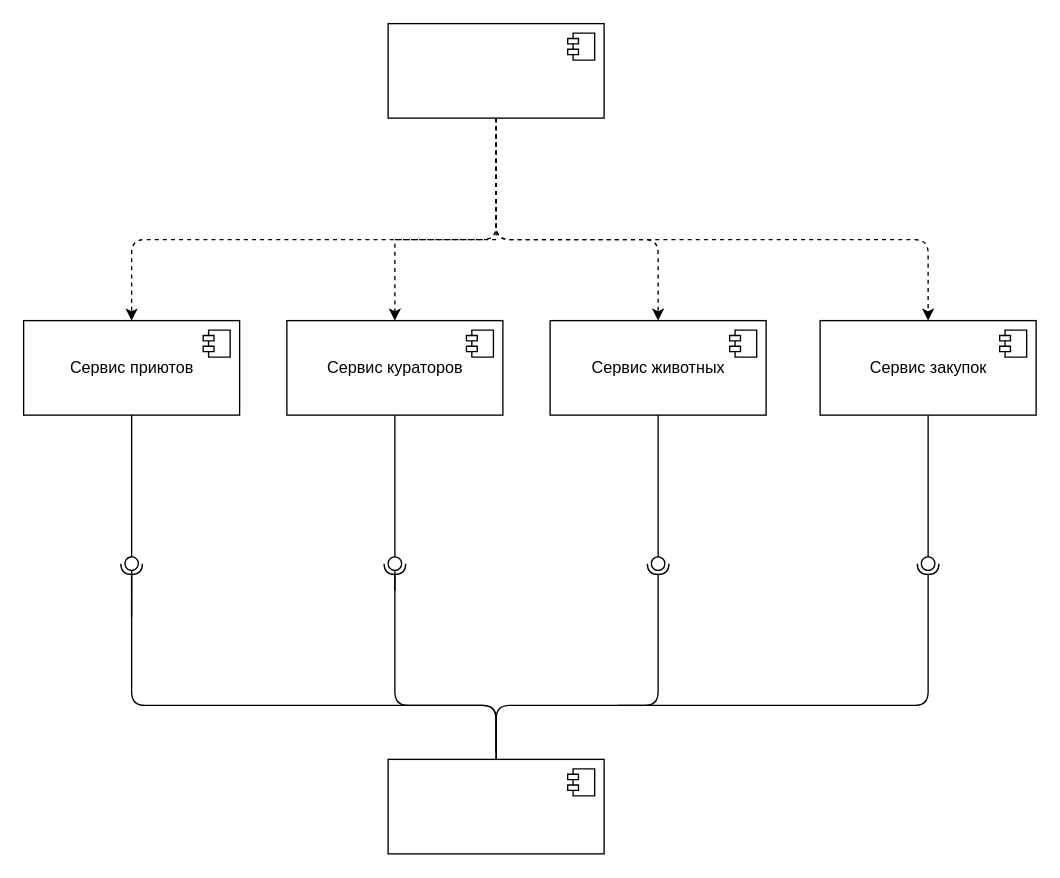
Image size: 1060x878. Some labels were removed from this diagram. The centre of each missing label's shape, as x and y in pixels:
Компонент доступа к данным: [495,806]
Компонент транспортного слоя: [495,70]
